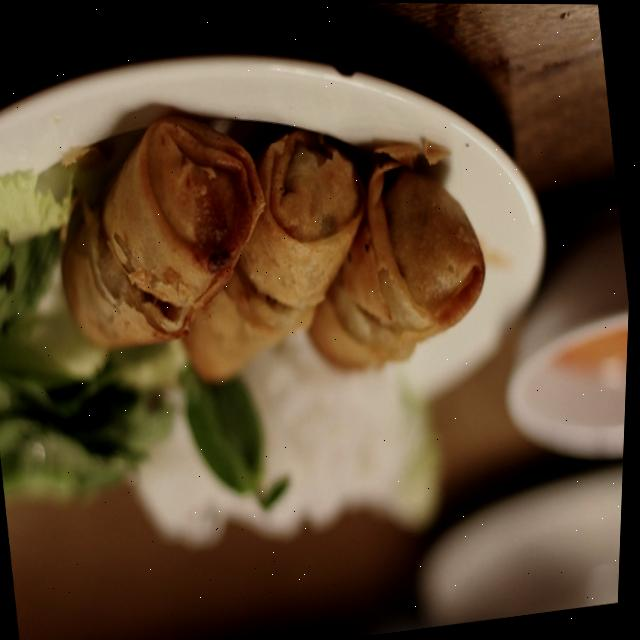炸货点心: (54, 88, 509, 460)
